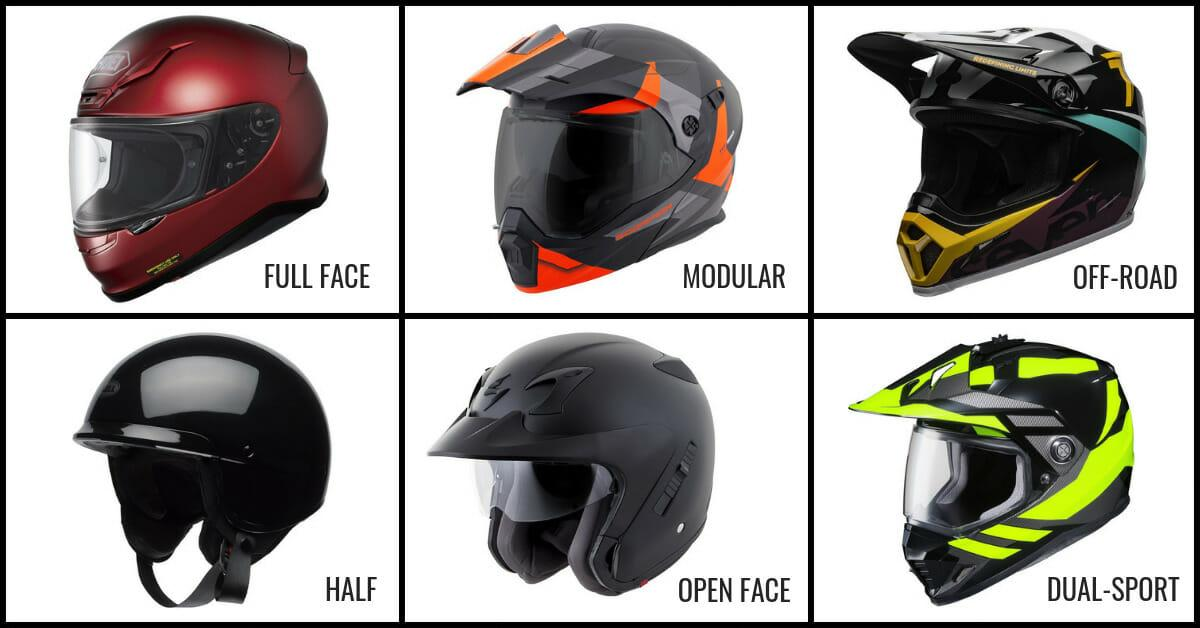Helmet: (65, 32, 1182, 598)
